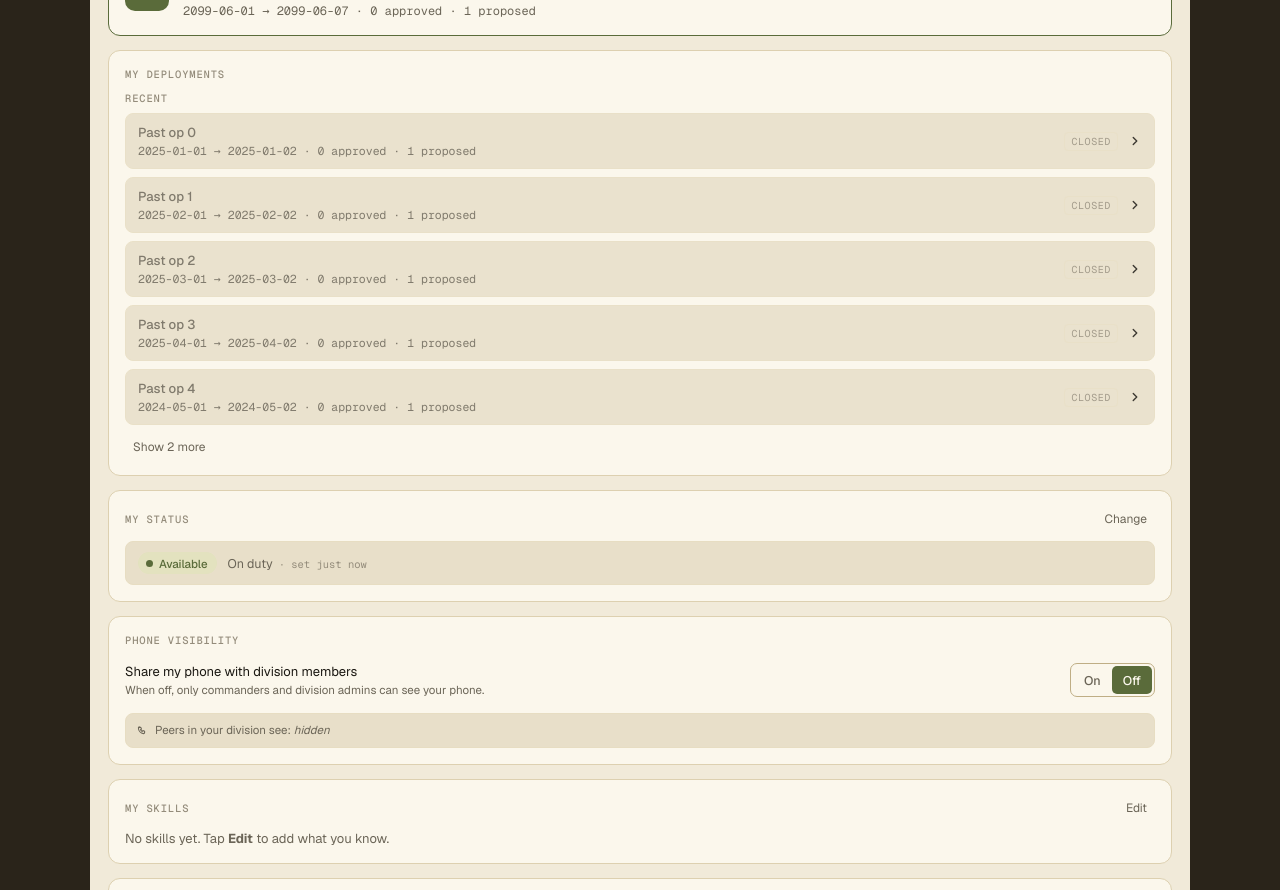
Test: ReservistDashboard › My deployments caps Recent closed windows at 5 and shows a "Show N more" button when there are more
(page scrolled)
expect the text "Past op 0" is shown: met, box x1=138 y1=124 x2=196 y2=141
expect the text "Past op 4" is shown: met, box x1=138 y1=380 x2=195 y2=397
Click the button with test id "show-more-closed" at point(169, 447), box x1=125 y1=435 x2=213 y2=459
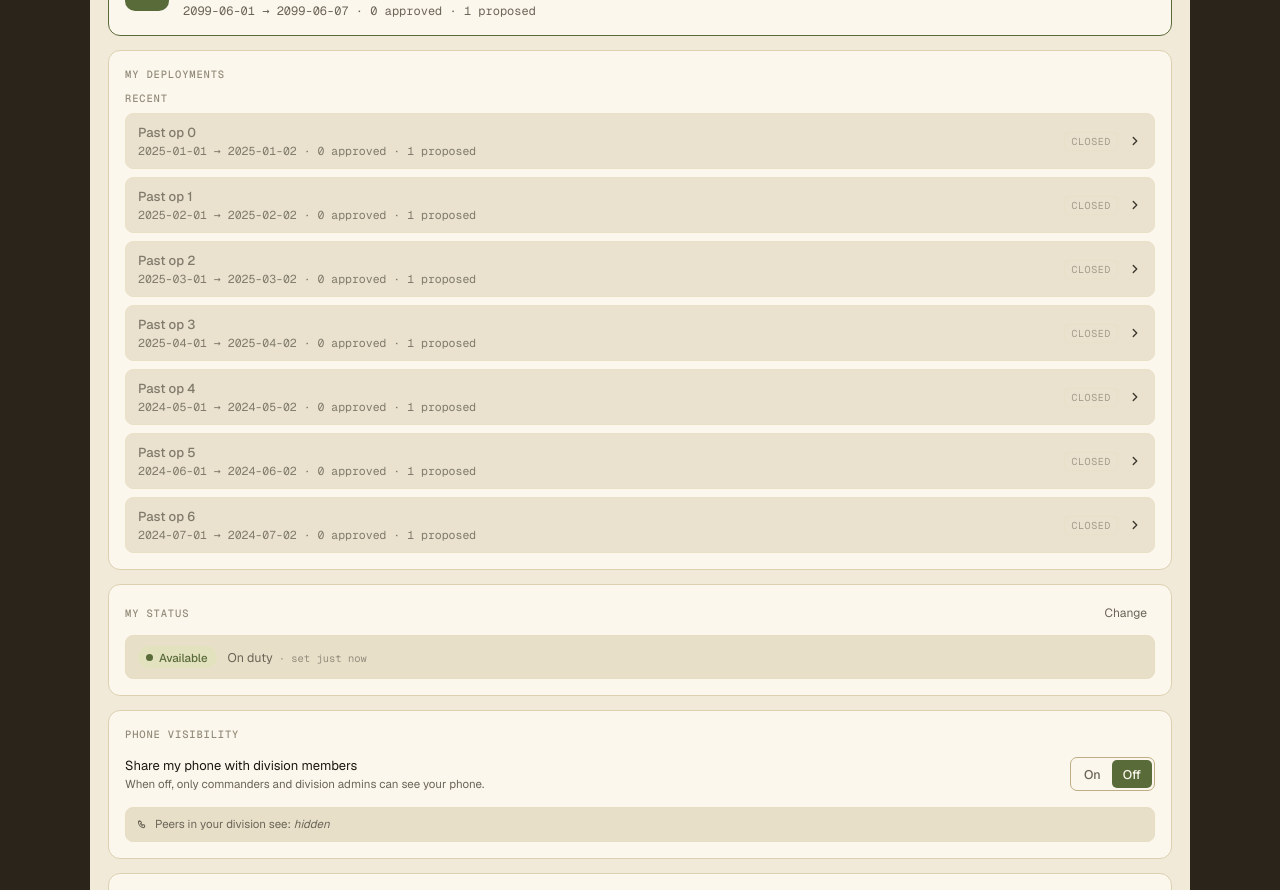
expect the text "Past op 5" is shown: met, box x1=138 y1=444 x2=196 y2=461
expect the text "Past op 6" is shown: met, box x1=138 y1=508 x2=195 y2=525
expect the button with test id "show-more-closed" is gone: met
